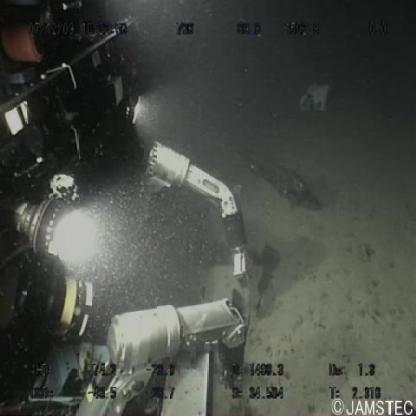Bio: (244, 148, 326, 213)
Rov: (1, 1, 252, 416)
Rác: (297, 78, 333, 116)
